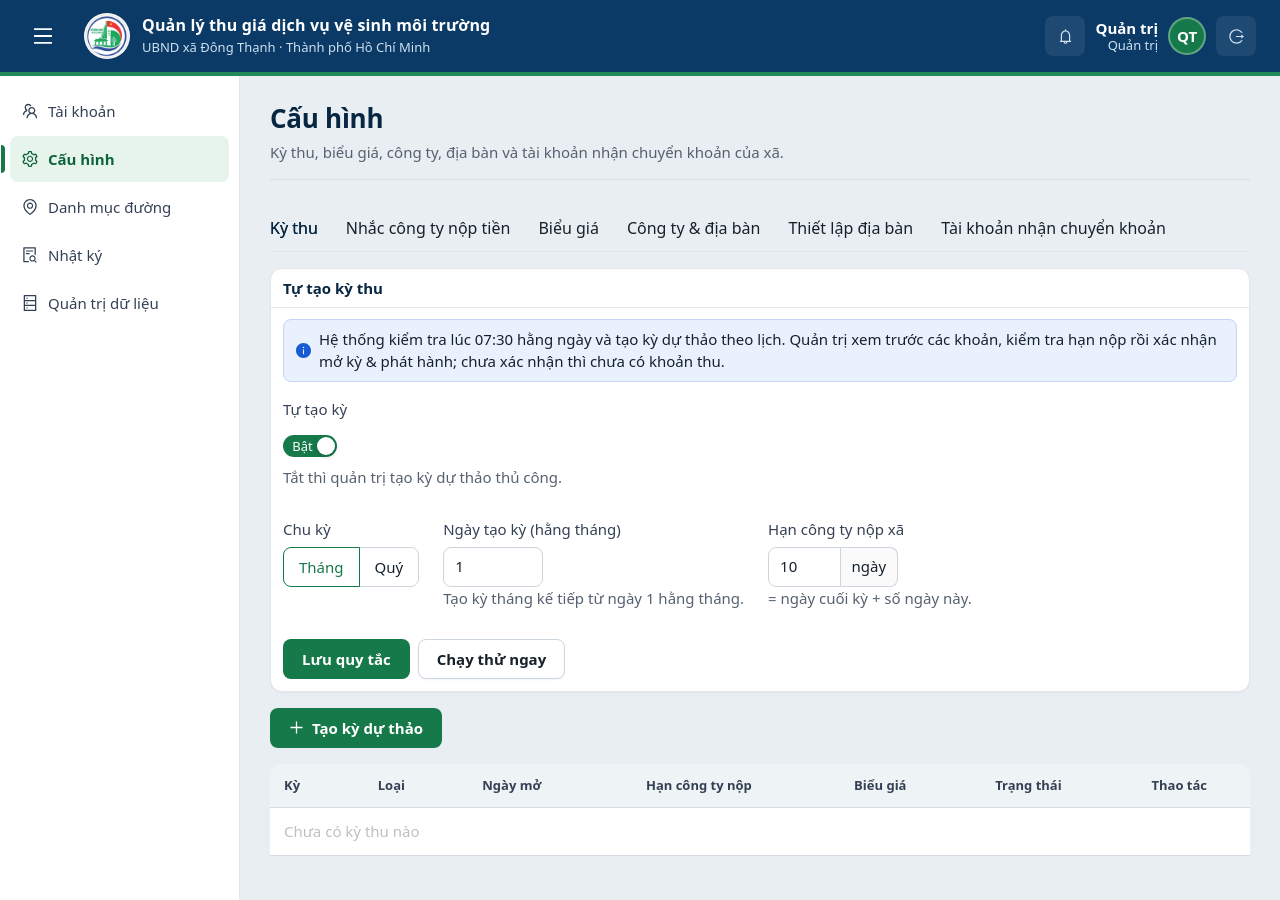
Test: admin saves the rule, generates a draft and reviews individual charges before confirming publication
Replace the text in the number field labelled "Ngày tạo kỳ (hằng tháng)" with "5" at (493,567), box [444,548,542,586]
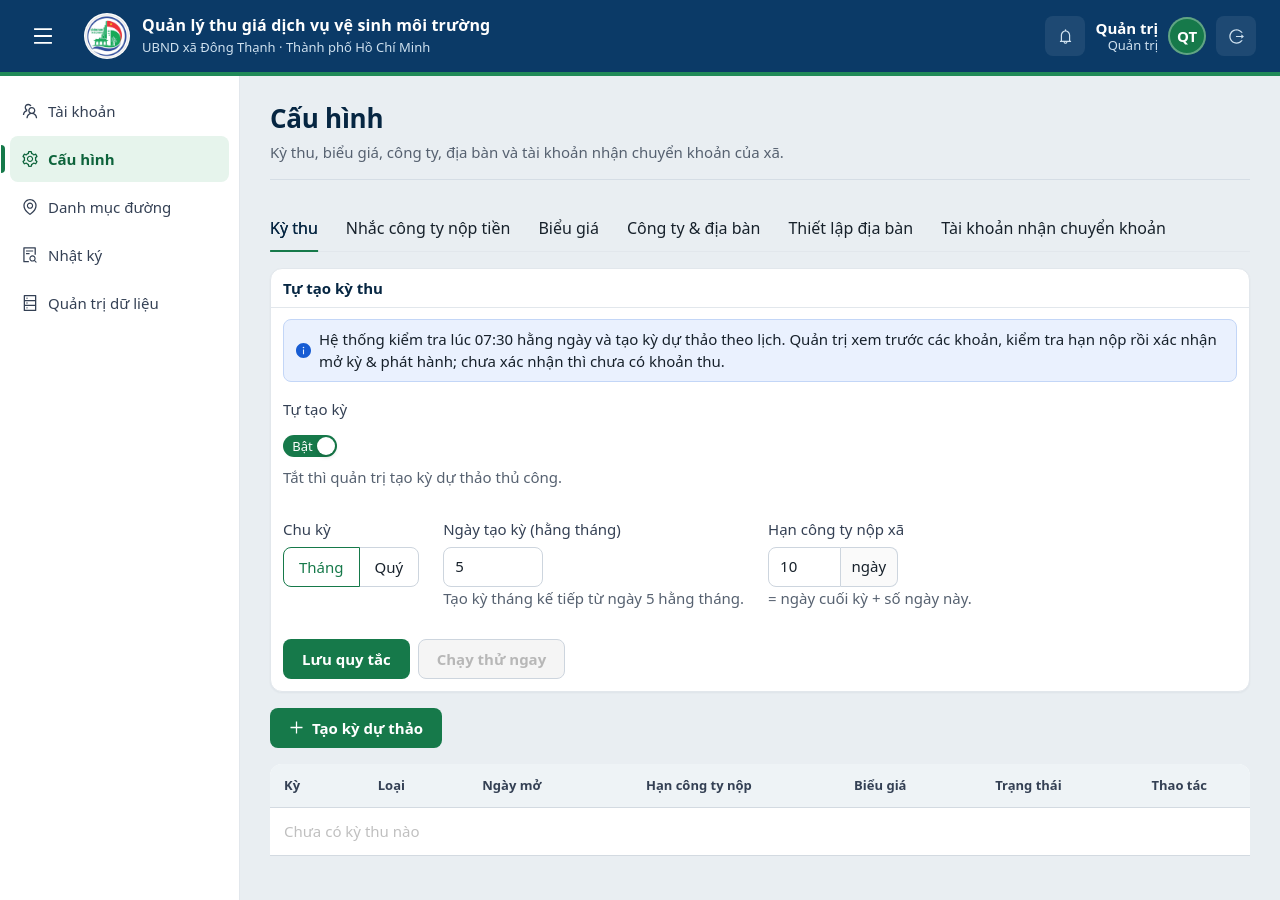
Expected: the button "Chạy thử ngay" is disabled, [418,639,565,679]
Click the button "Lưu quy tắc" at (346,659), box [283,639,410,679]
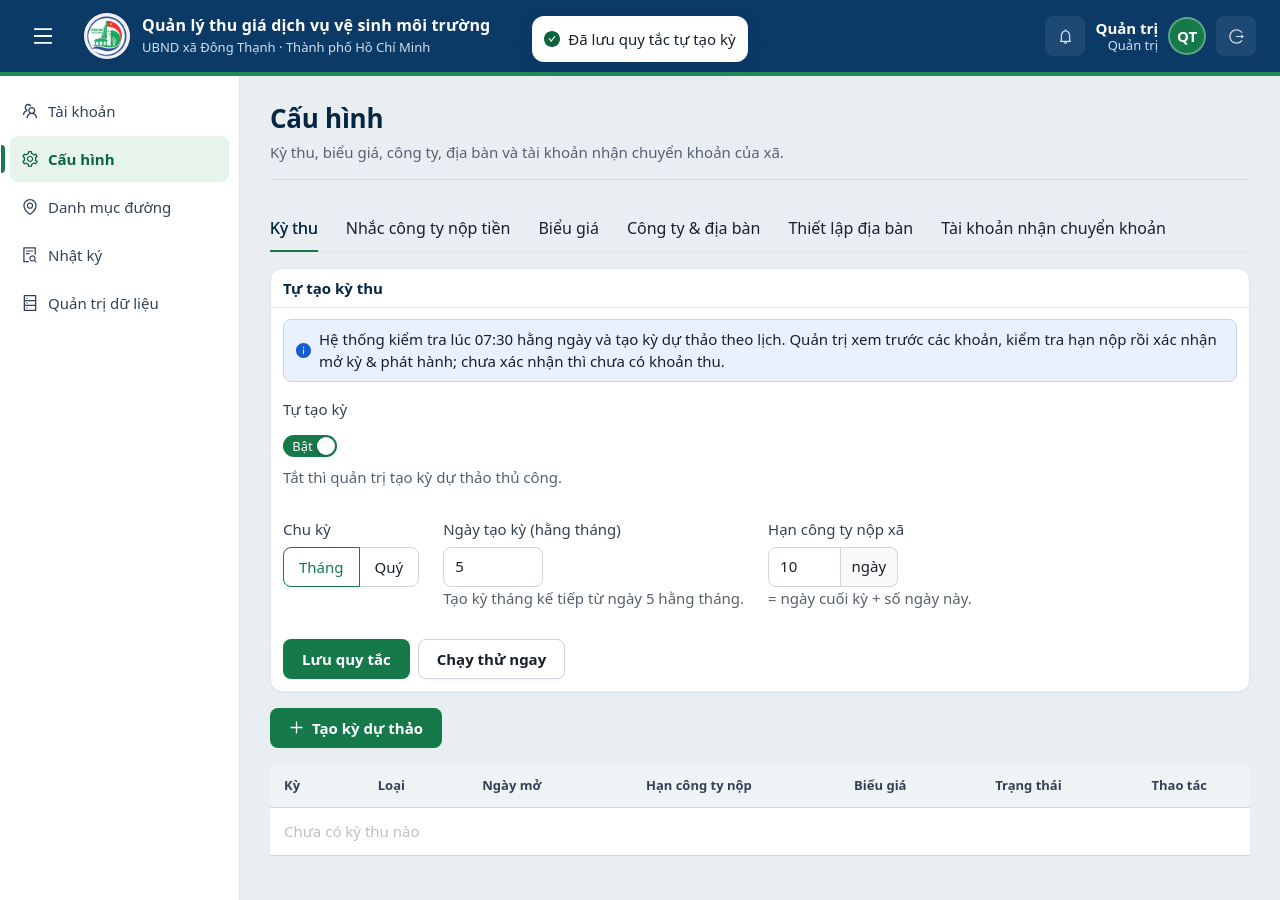
Click the button "Chạy thử ngay" at (491,659), box [418,639,565,679]
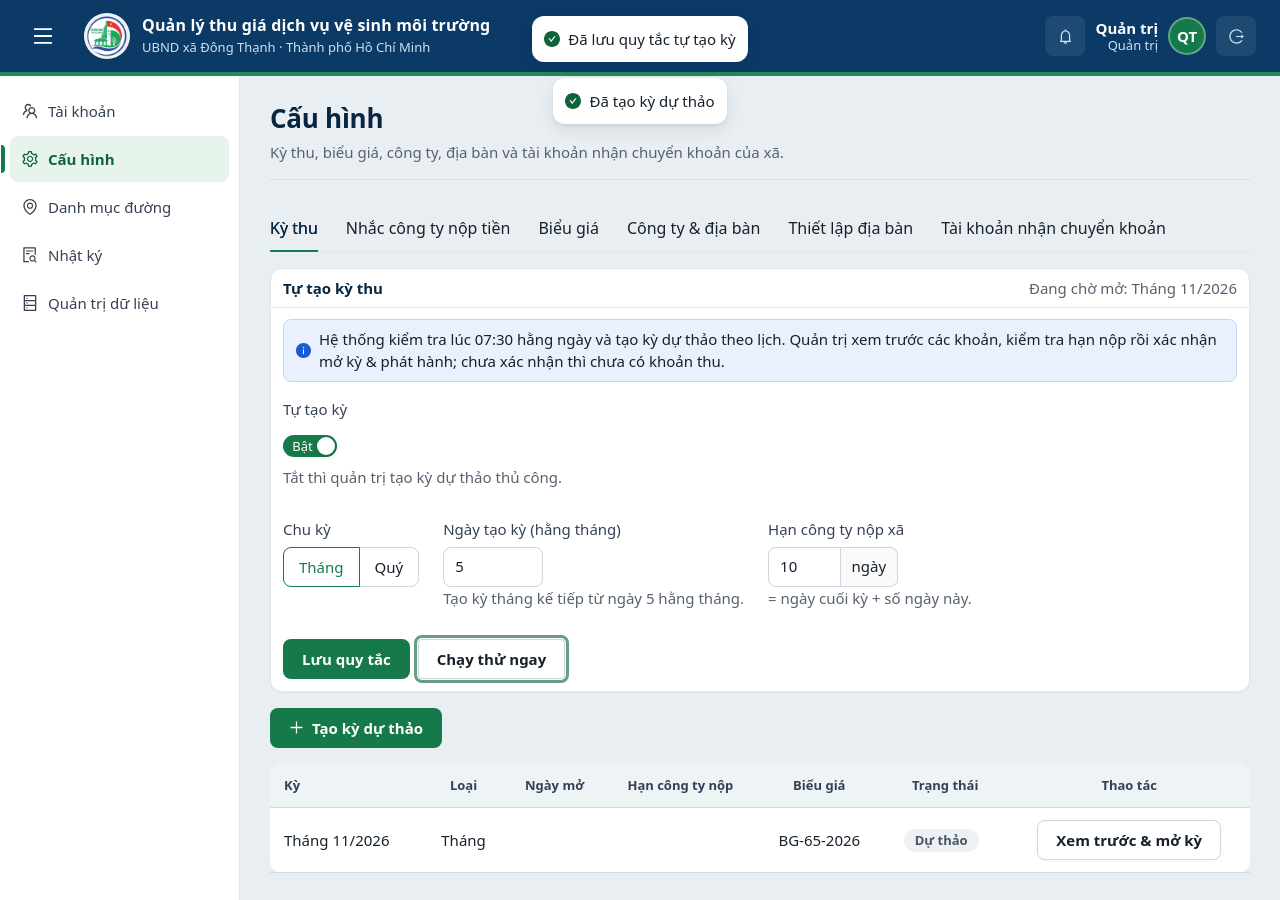
Click the button "Xem trước & mở kỳ" at (1129,840), box [1037,820,1221,860]
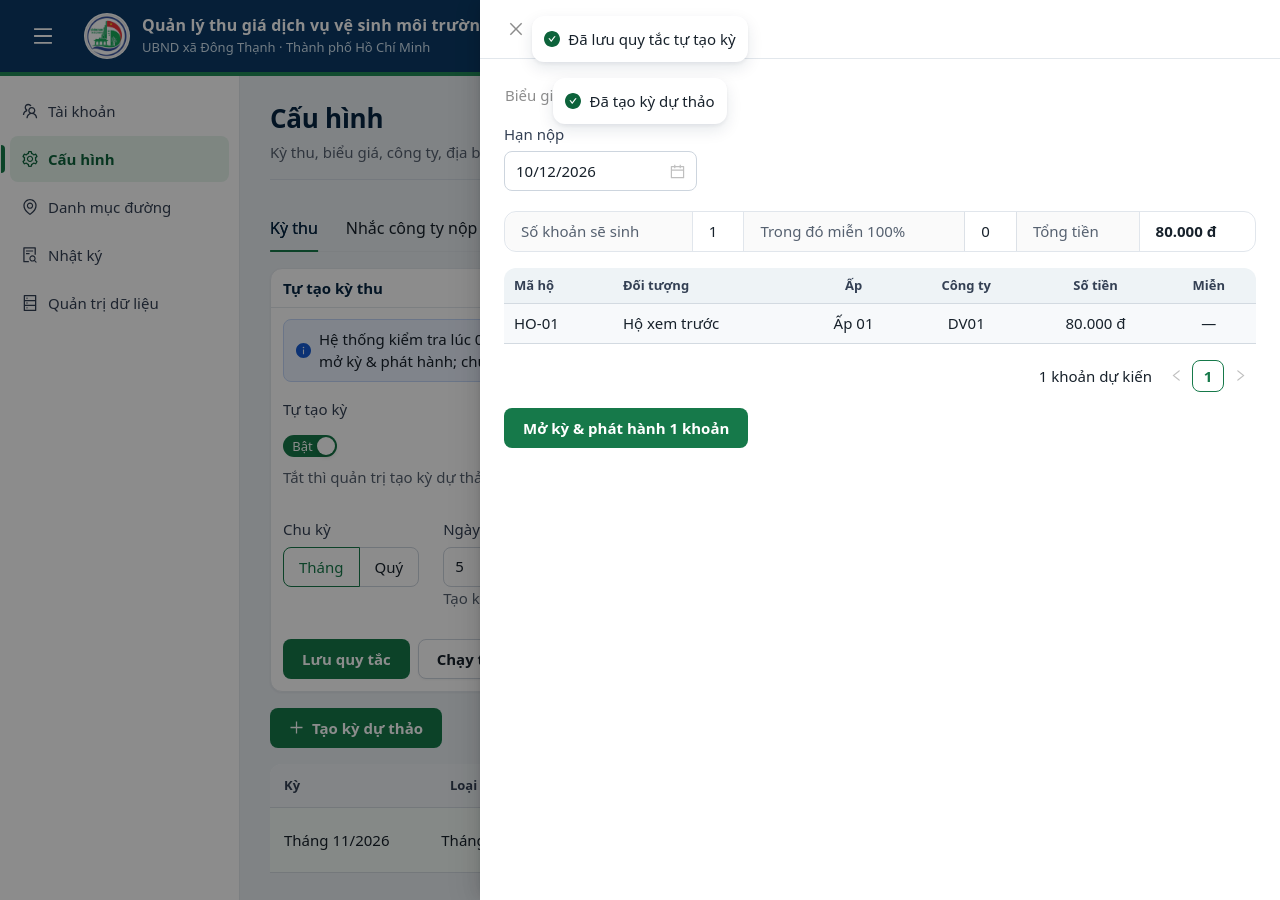
Expected: the text "Hộ xem trước" is shown, [613,304,804,344]
Click the button "Mở kỳ & phát hành 1 khoản" at (626,428), box [504,408,748,448]
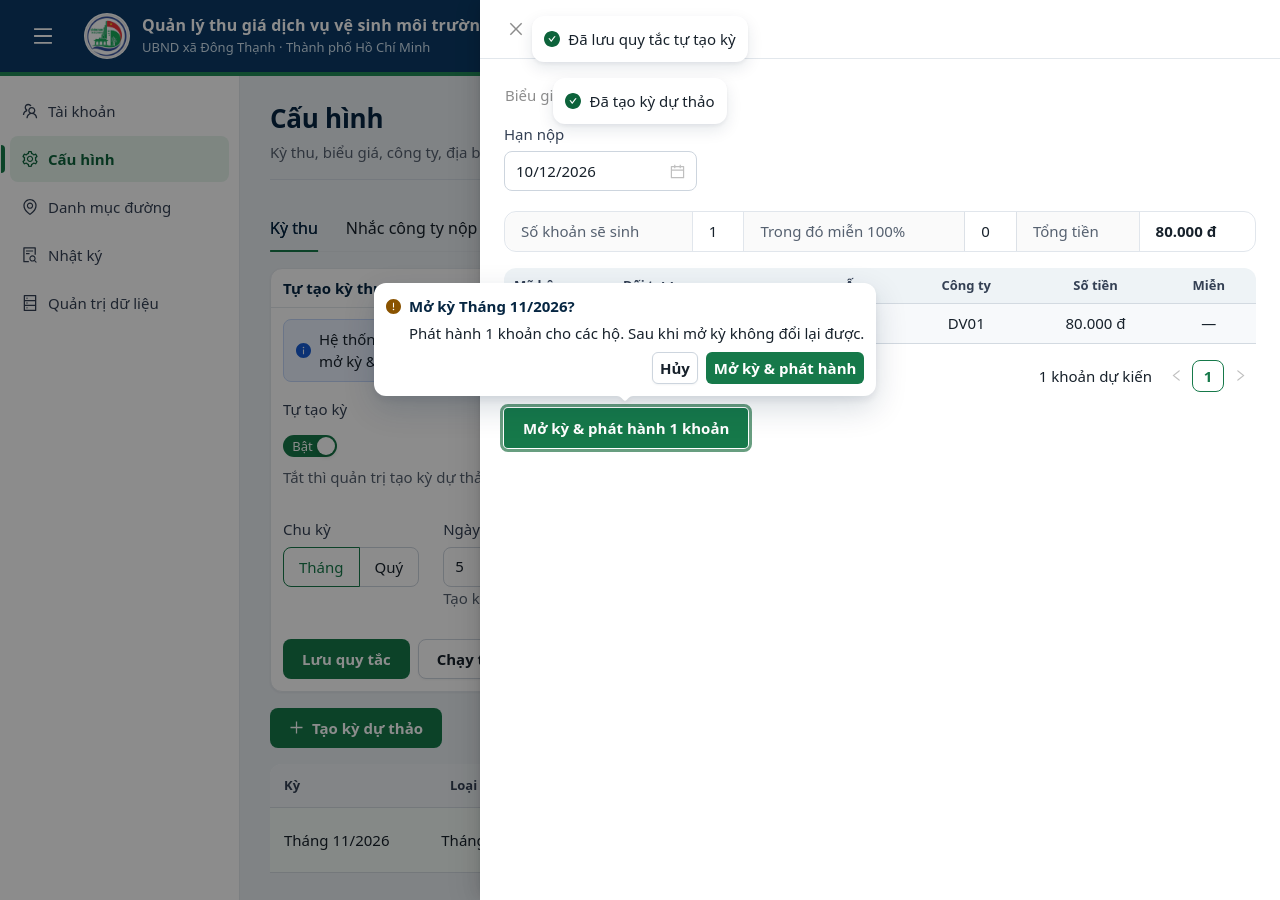
Click the button "Mở kỳ & phát hành" at (785,368), box [706,352,864,384]
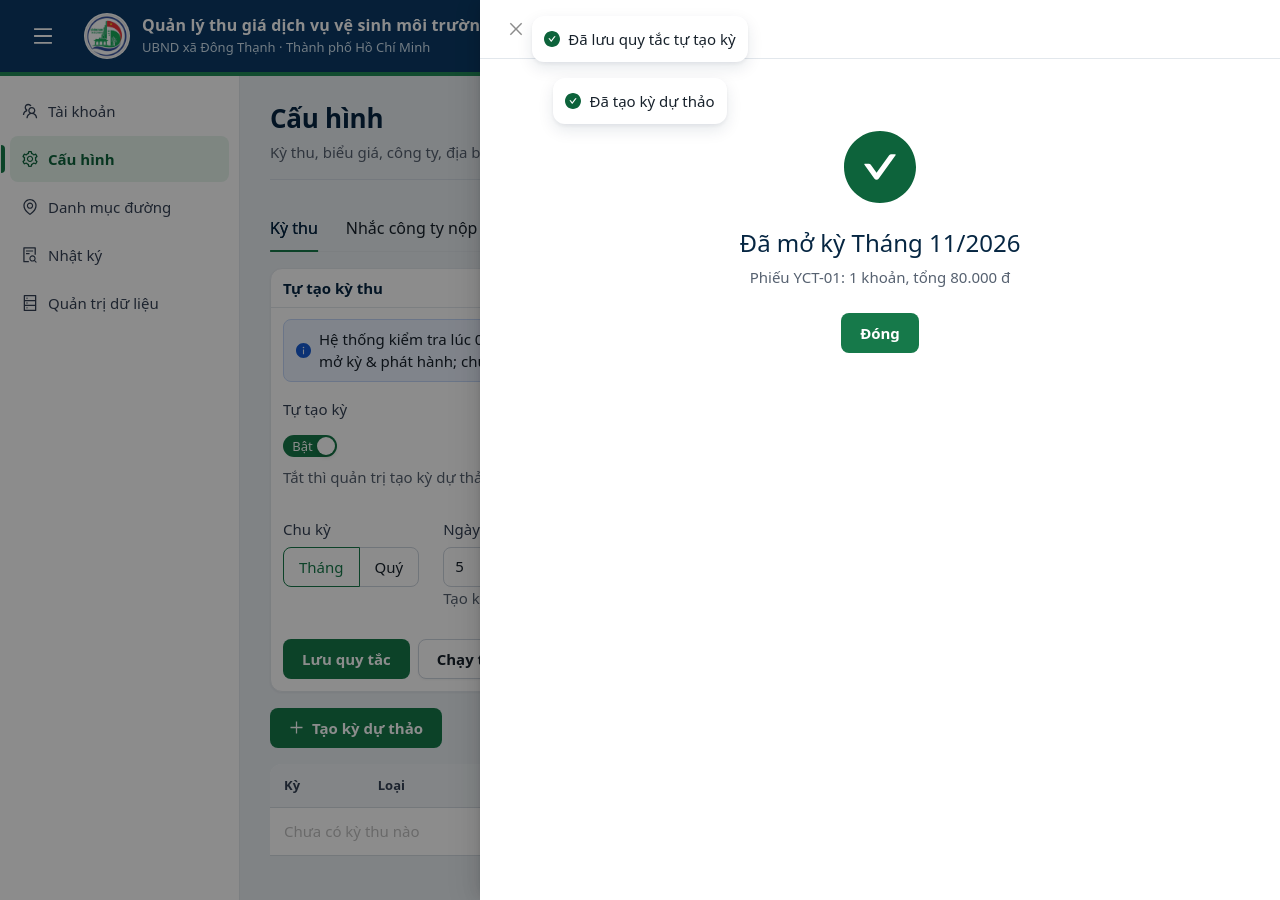
Expected: the text "Đã mở kỳ Tháng 11/2026" is shown, [740,226,1020,259]
